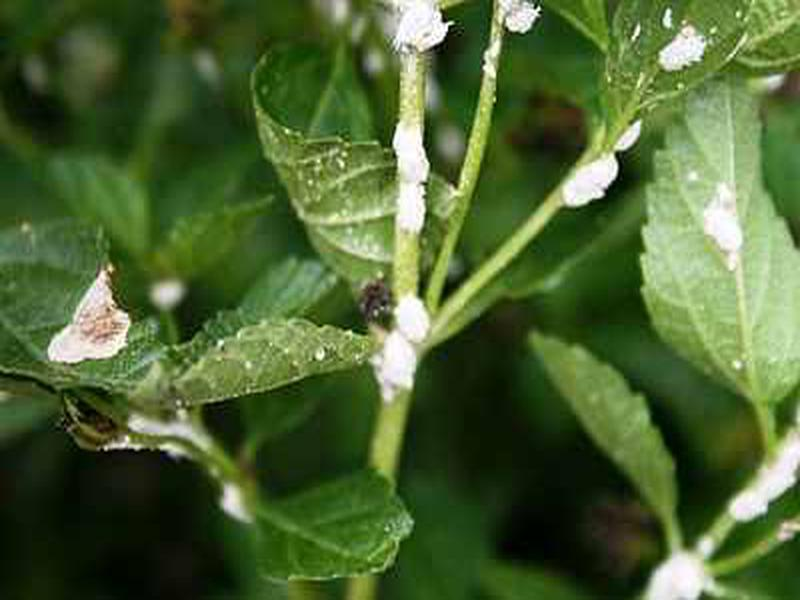Mealy_bug: (346, 269, 441, 407), (37, 263, 138, 388), (366, 109, 439, 237)
